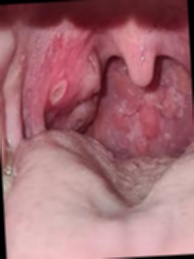Ulcer: (43, 77, 70, 104)
